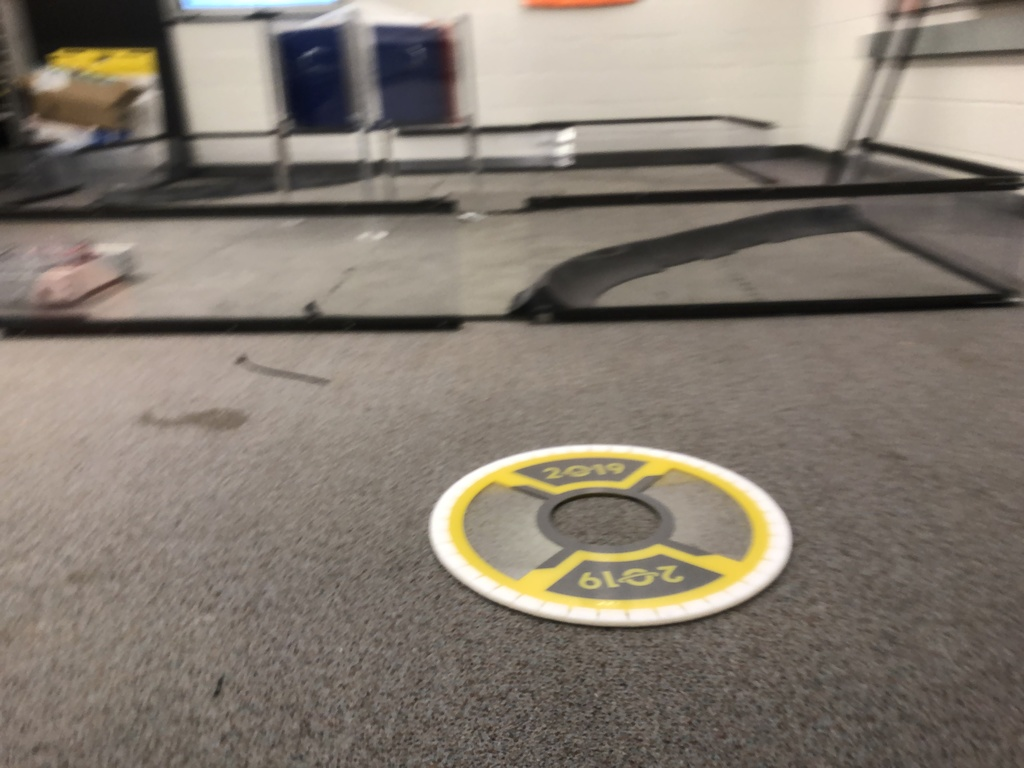hatch_panel: (415, 424, 811, 638)
